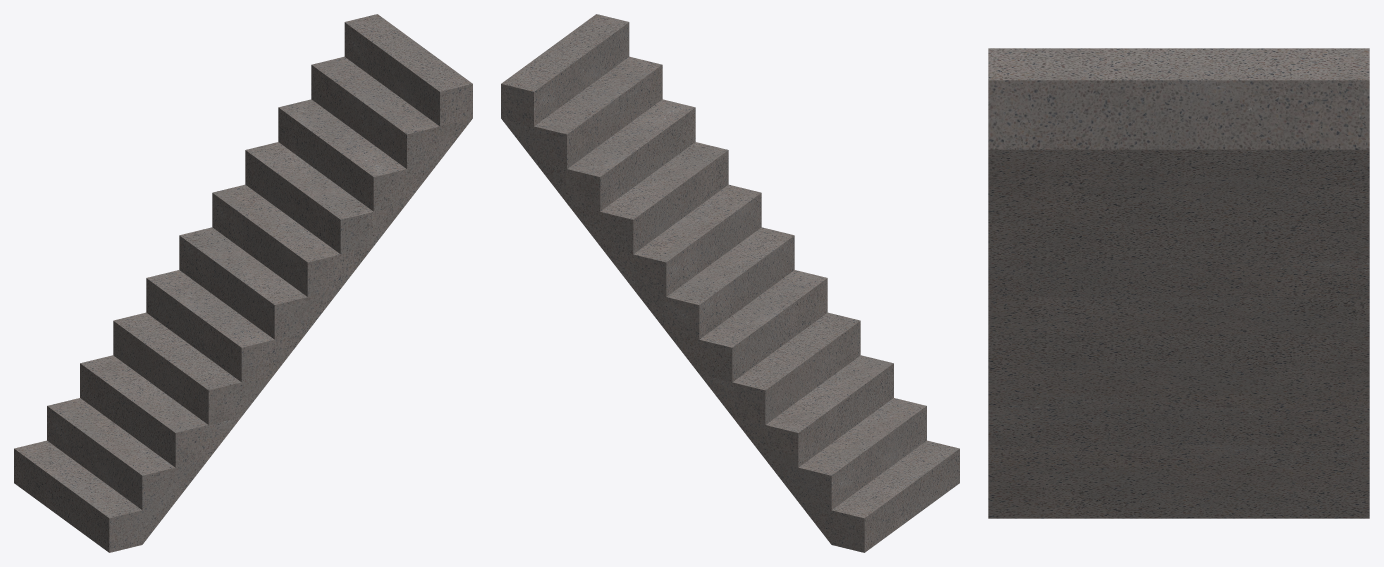
File: stairs_001_3.gltf
3 renders of one model, left to right at view 1: azimuth 30°, elevation 25°; view 2: azimuth 150°, elevation 25°; view 3: azimuth 270°, elevation 25°, orthographic. The views are drawn at different scales.
Parts seen in each view (by area): view 1: Stairs_001_3; view 2: Stairs_001_3; view 3: Stairs_001_3.
Part boxes in pixels (<box>): Stairs_001_3: <box>14,14,472,552</box>; Stairs_001_3: <box>501,14,959,552</box>; Stairs_001_3: <box>988,48,1369,518</box>.
Bounding box in the file's own units: 2.2 × 2.2 × 1.
Materials: 1 (1 with a texture image).
